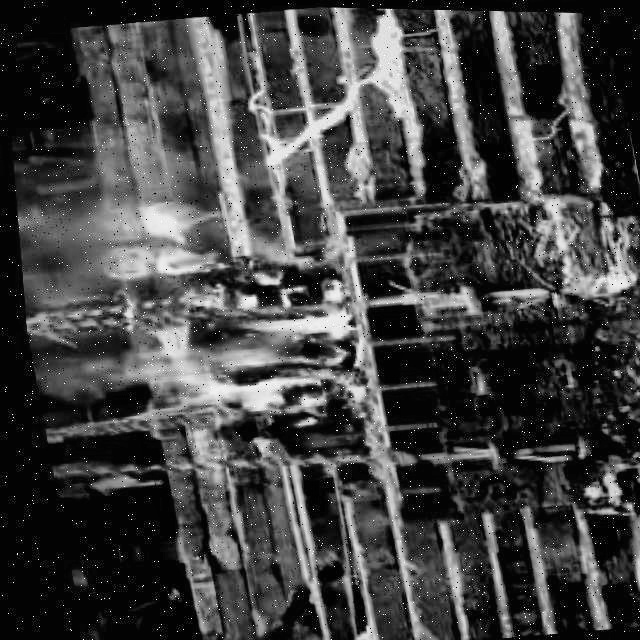Fire: (97, 283, 363, 420)
